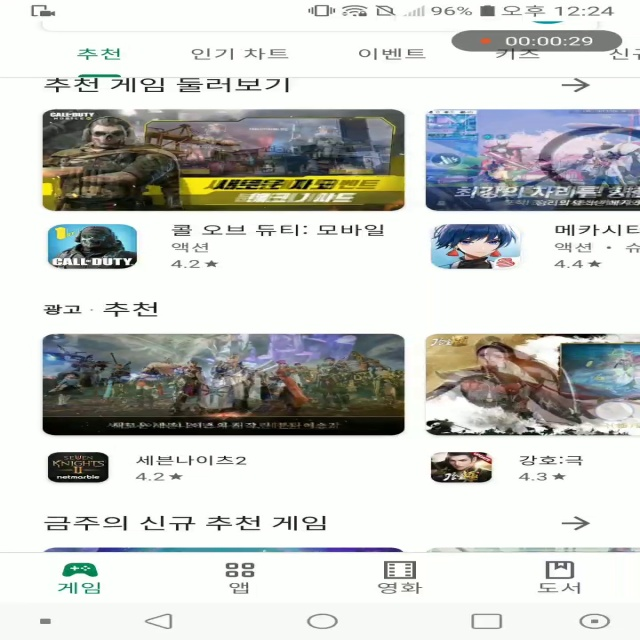Cursor: (592, 401, 637, 424)
